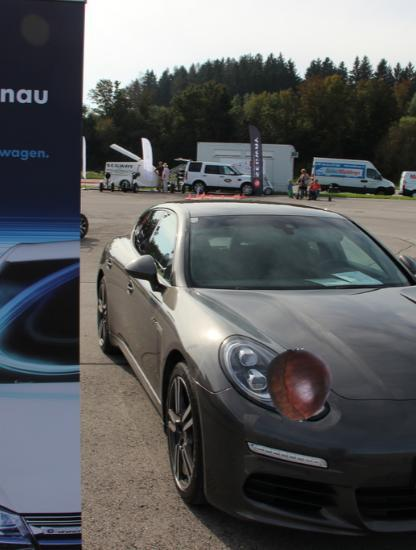Chestnut: (263, 349, 336, 422)
